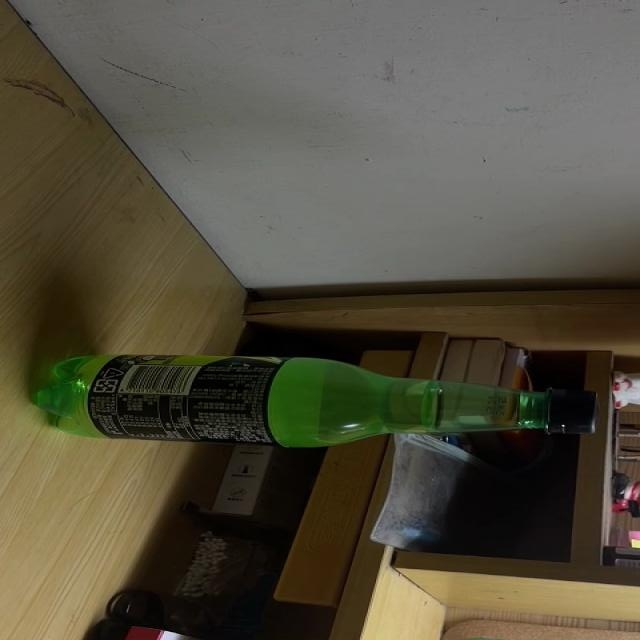Mountain-Dew: (29, 357, 594, 448)
